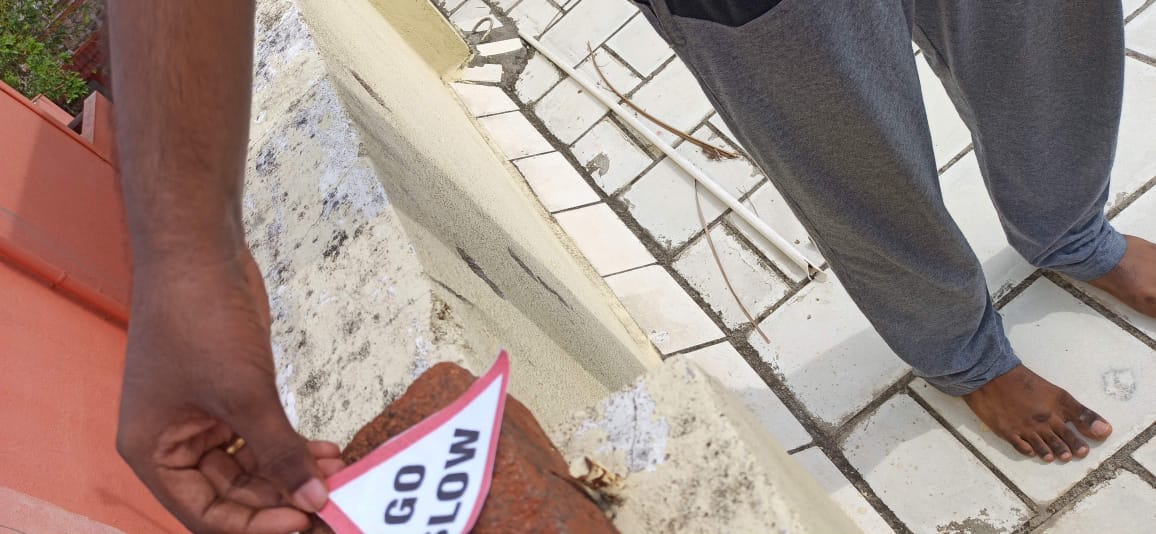GO SLOW: (237, 352, 523, 532)
